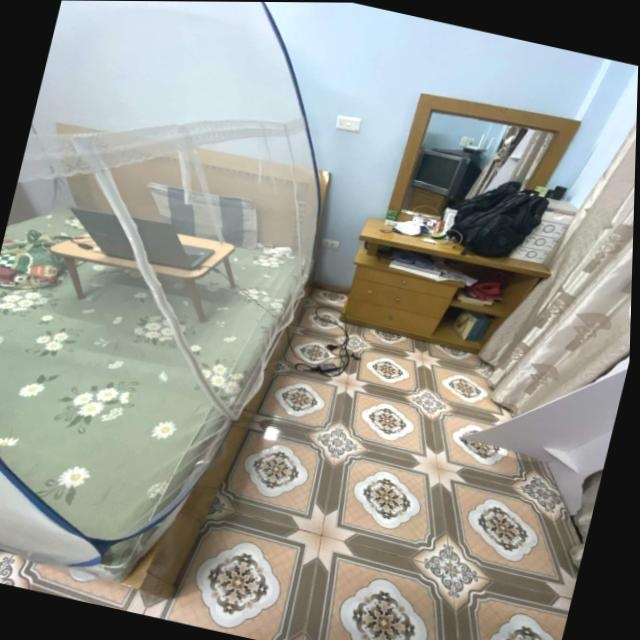outlet: (321, 237, 340, 250)
